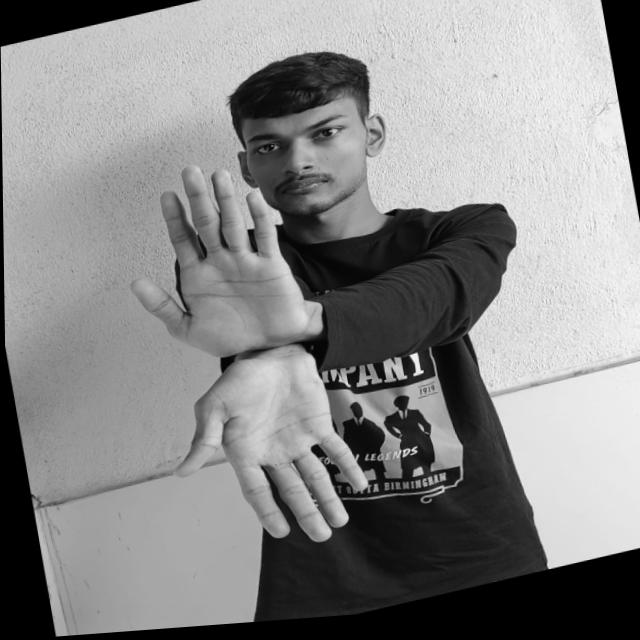Morning: (109, 136, 381, 582)
